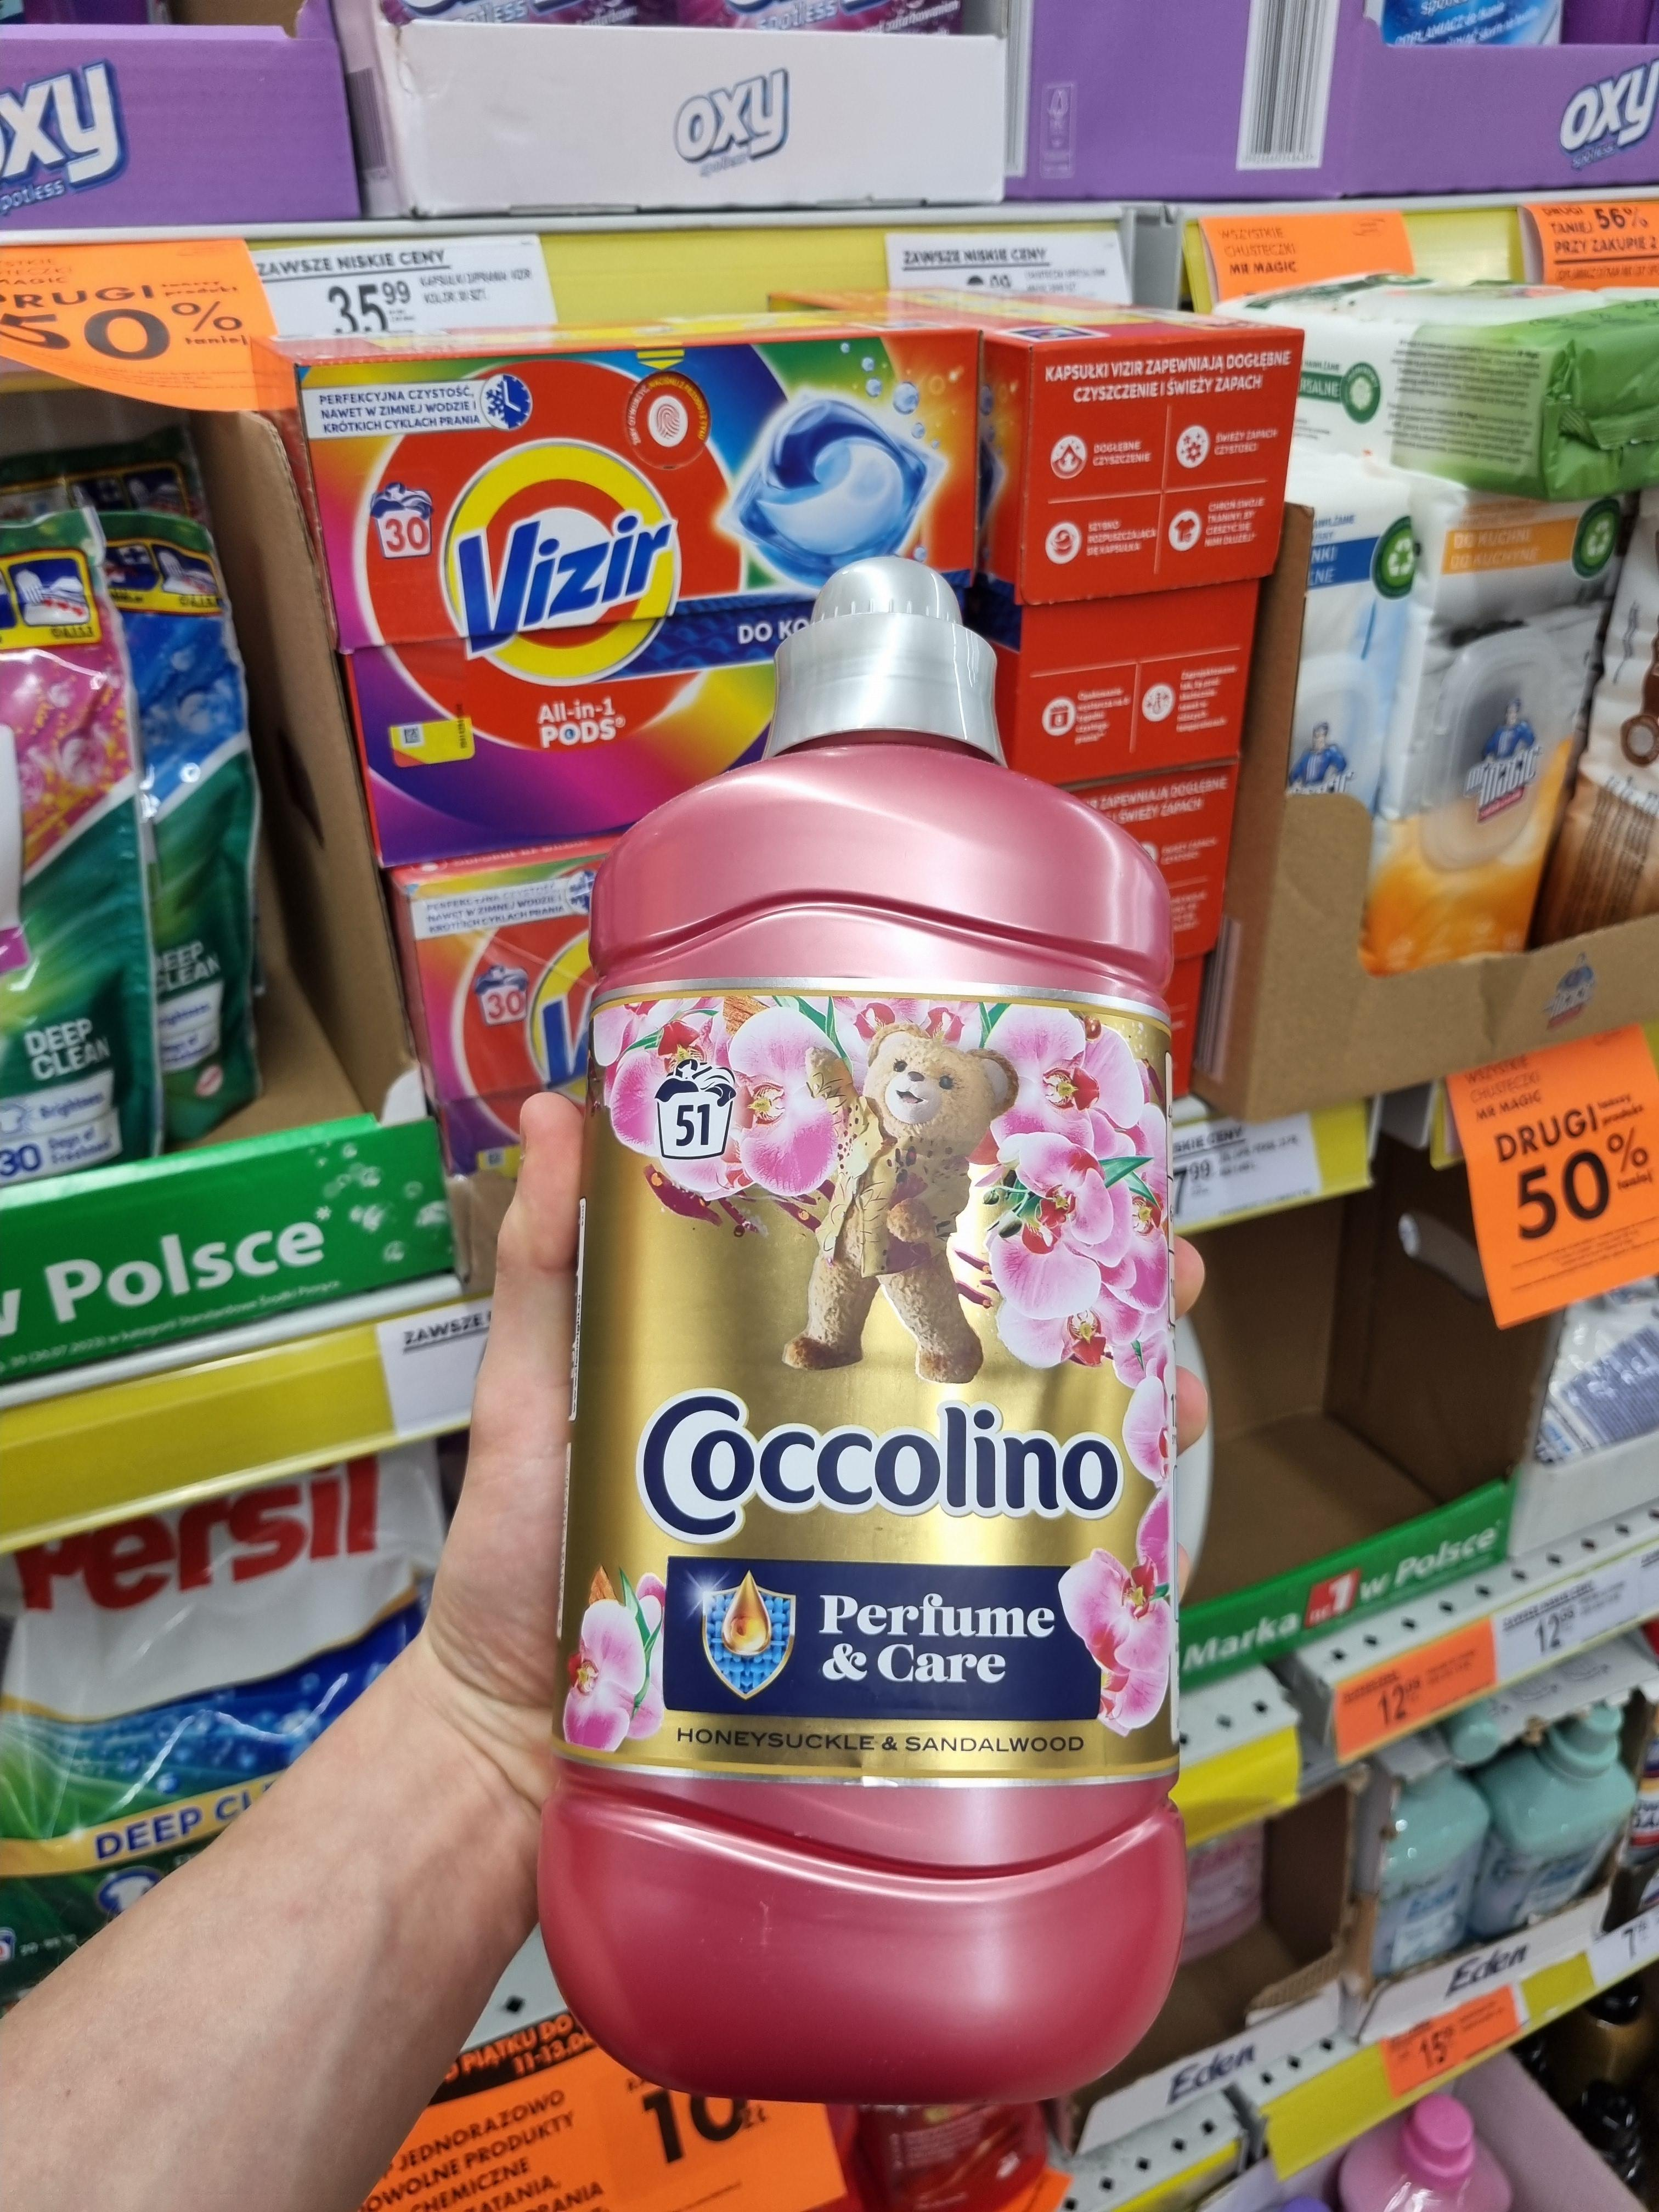cocolino: (573, 695, 1199, 2099)
